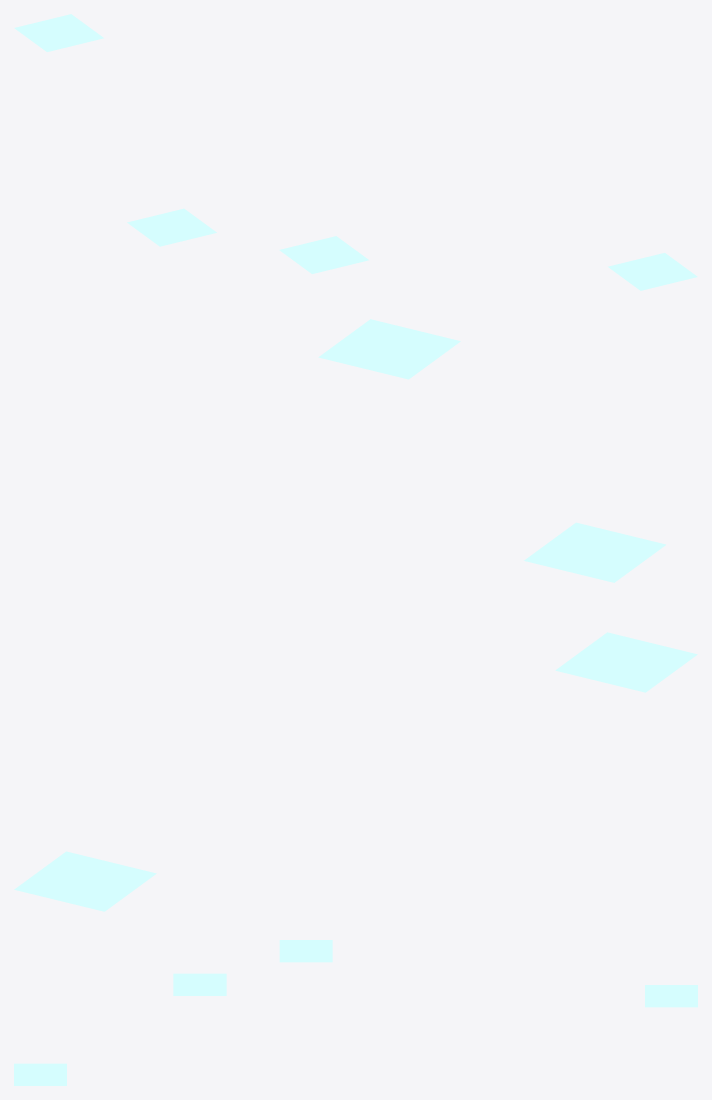
Rendered from object_54_lev2.glb.
The picture shows the model from 3 angles, top to bottom: view 1: azimuth 30°, elevation 25°; view 2: azimuth 150°, elevation 25°; view 3: azimuth 270°, elevation 25°; orthographic projection. The views are drawn at different scales.
Parts seen in each view (by area): view 1: object_54_lev2; view 2: object_54_lev2; view 3: object_54_lev2.
Part boxes in pixels (x1=…): object_54_lev2: x1=14, y1=14, x2=697, y2=290; object_54_lev2: x1=14, y1=319, x2=697, y2=911; object_54_lev2: x1=14, y1=940, x2=697, y2=1085.
Bounding box in the file's own units: 35.95 × 2.4e-05 × 71.21.
